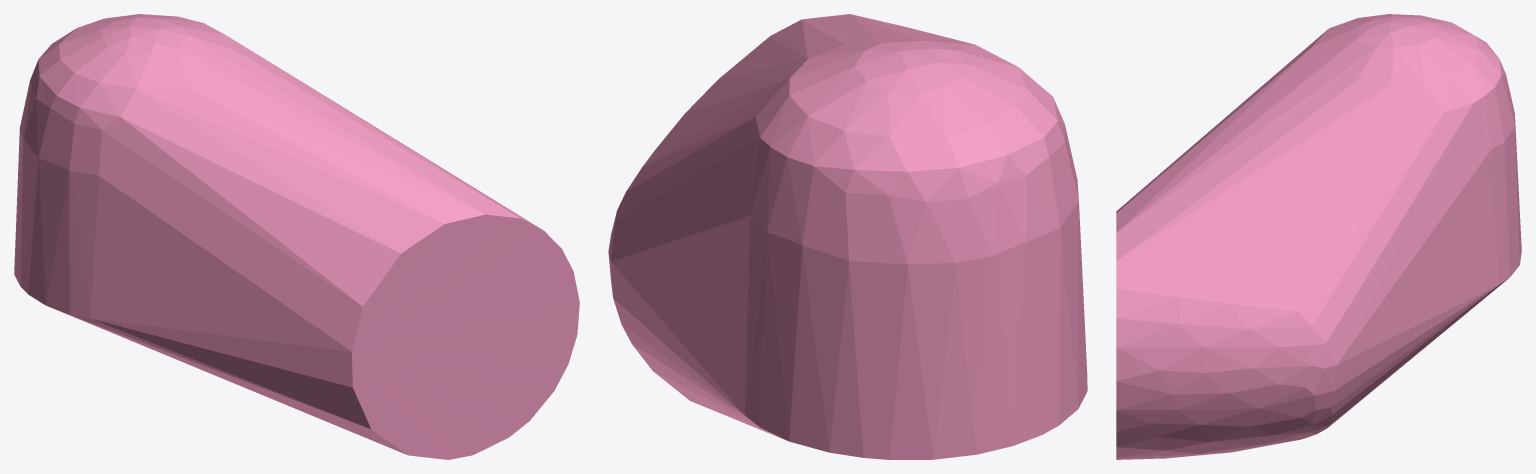
Rendered from dualpanda_Panda_rightArm_link4_respondable_coll_1.dae.
The picture shows the model from 3 angles, left to right: view 1: azimuth 30°, elevation 25°; view 2: azimuth 150°, elevation 25°; view 3: azimuth 270°, elevation 25°; orthographic projection. The views are drawn at different scales.
Visible parts, largest first — view 1: node; view 2: node; view 3: node.
Boxes of the visible parts, x1,y1,x2,y2 form: node: (14, 14, 579, 459); node: (608, 14, 1087, 459); node: (1116, 14, 1521, 459).
Size of the model in its own units: 0.1927 by 0.1663 by 0.1792.
